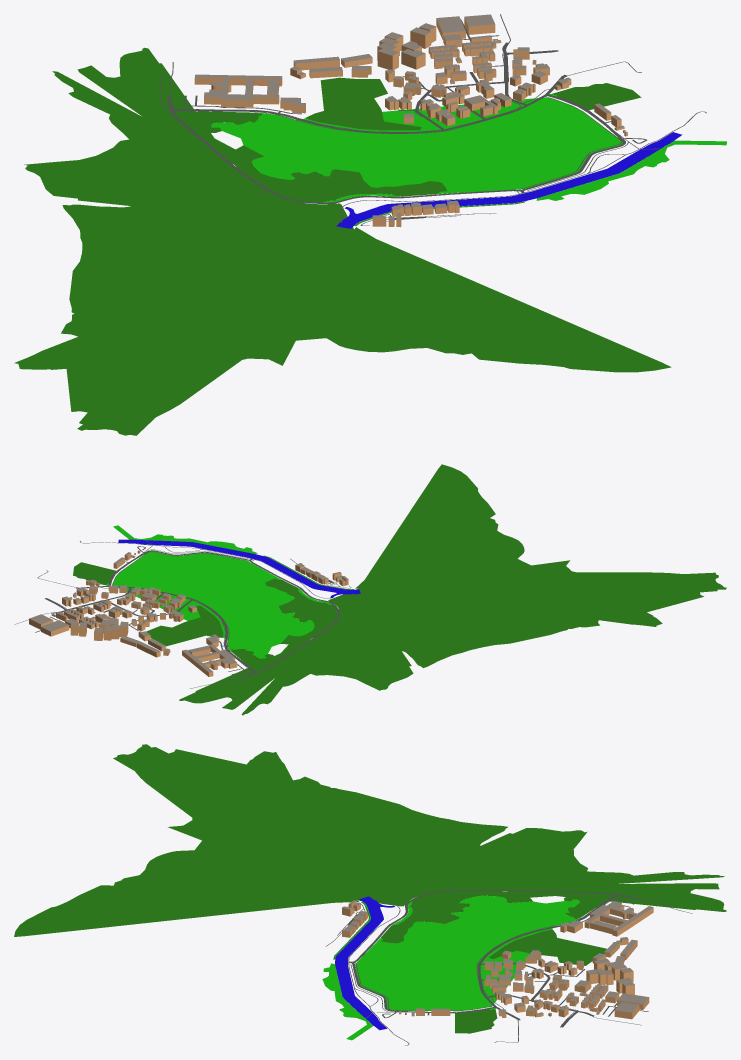
Rendered from osm2.fbx.
The picture shows the model from 3 angles, top to bottom: view 1: azimuth 30°, elevation 25°; view 2: azimuth 150°, elevation 25°; view 3: azimuth 270°, elevation 25°; orthographic projection. The views are drawn at different scales.
Visible parts, largest first — view 1: map.osm_forest, map.osm_vegetation, map.osm_buildings, map.osm_roads_residential, map.osm_water, map.osm_paths_footway; view 2: map.osm_forest, map.osm_vegetation, map.osm_buildings, map.osm_water, map.osm_roads_residential, map.osm_paths_footway; view 3: map.osm_forest, map.osm_vegetation, map.osm_buildings, map.osm_water, map.osm_roads_residential, map.osm_paths_footway.
Boxes of the visible parts, x1,y1,x2,y2 form: map.osm_forest: (14,47,671,435); map.osm_vegetation: (211,94,726,226); map.osm_buildings: (194,14,627,227); map.osm_roads_residential: (167,42,625,219); map.osm_water: (336,132,682,228); map.osm_paths_footway: (159,14,660,225); map.osm_forest: (73,464,726,715); map.osm_vegetation: (106,525,353,658); map.osm_buildings: (29,550,348,676); map.osm_water: (118,539,360,597); map.osm_roads_residential: (45,550,340,678); map.osm_paths_footway: (14,540,353,688); map.osm_forest: (14,744,726,1033); map.osm_vegetation: (322,895,579,1040); map.osm_buildings: (342,900,653,1019); map.osm_water: (335,896,394,1030); map.osm_roads_residential: (347,889,639,1026); map.osm_paths_footway: (326,885,692,1042).
Bounding box in the file's own units: 191310 × 3488 × 191147.
